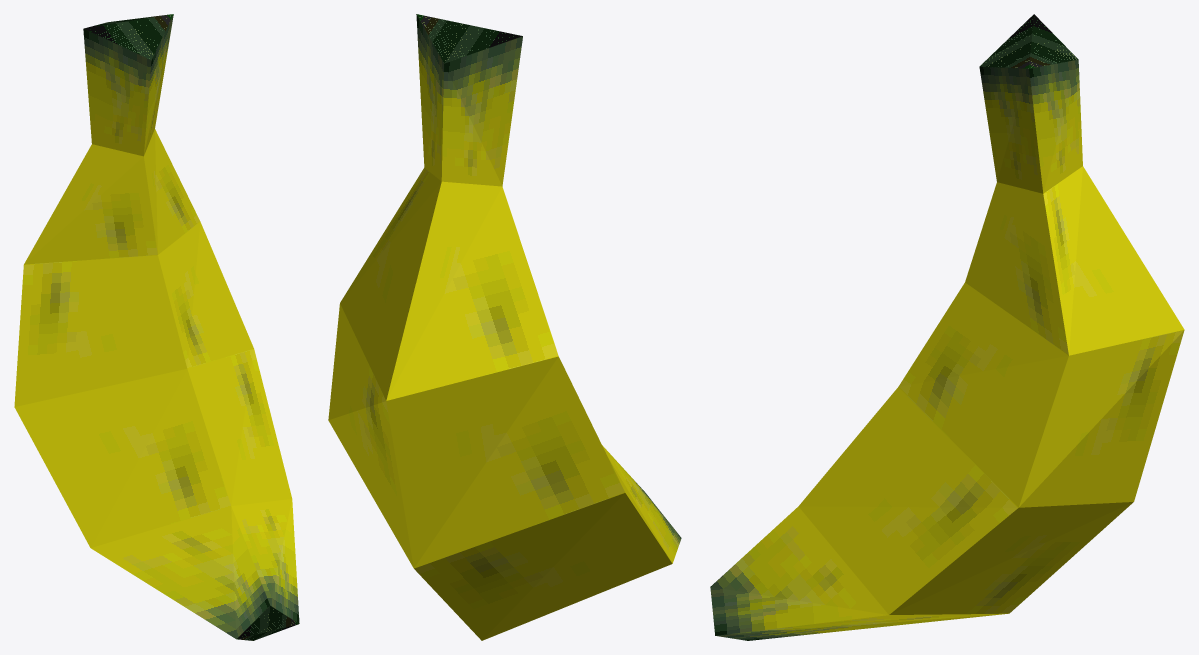
Rendered from Banana.obj.
3 renders of one model, left to right at view 1: azimuth 30°, elevation 25°; view 2: azimuth 150°, elevation 25°; view 3: azimuth 270°, elevation 25°, orthographic. The views are drawn at different scales.
Visible parts, largest first — view 1: ShapeIndexedFaceS.001, ShapeIndexedFaceS; view 2: ShapeIndexedFaceS.001, ShapeIndexedFaceS; view 3: ShapeIndexedFaceS.001, ShapeIndexedFaceS.
Boxes of the visible parts, box(x1,y1,x2,y2) form: ShapeIndexedFaceS.001: box(14, 129, 292, 547); ShapeIndexedFaceS: box(83, 14, 299, 640); ShapeIndexedFaceS.001: box(328, 167, 672, 640); ShapeIndexedFaceS: box(416, 14, 681, 563); ShapeIndexedFaceS.001: box(798, 166, 1184, 614); ShapeIndexedFaceS: box(710, 14, 1082, 640).
Bounding box in the file's own units: 1.38 × 2.92 × 2.08.
